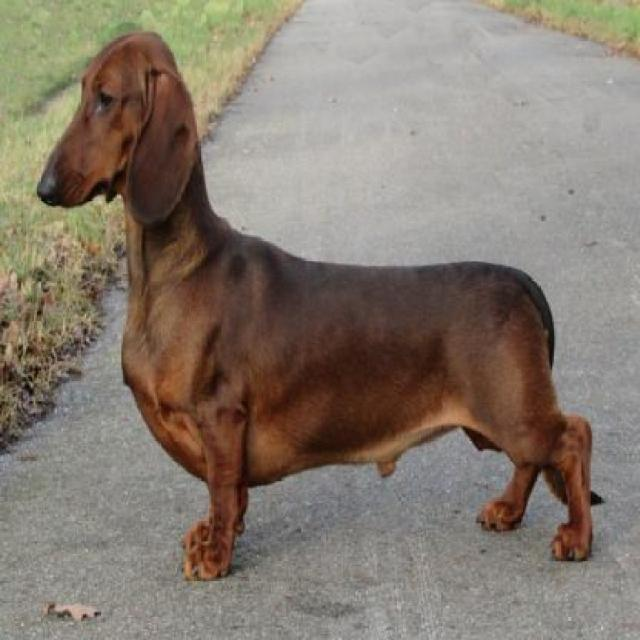Dog: (34, 24, 608, 578)
